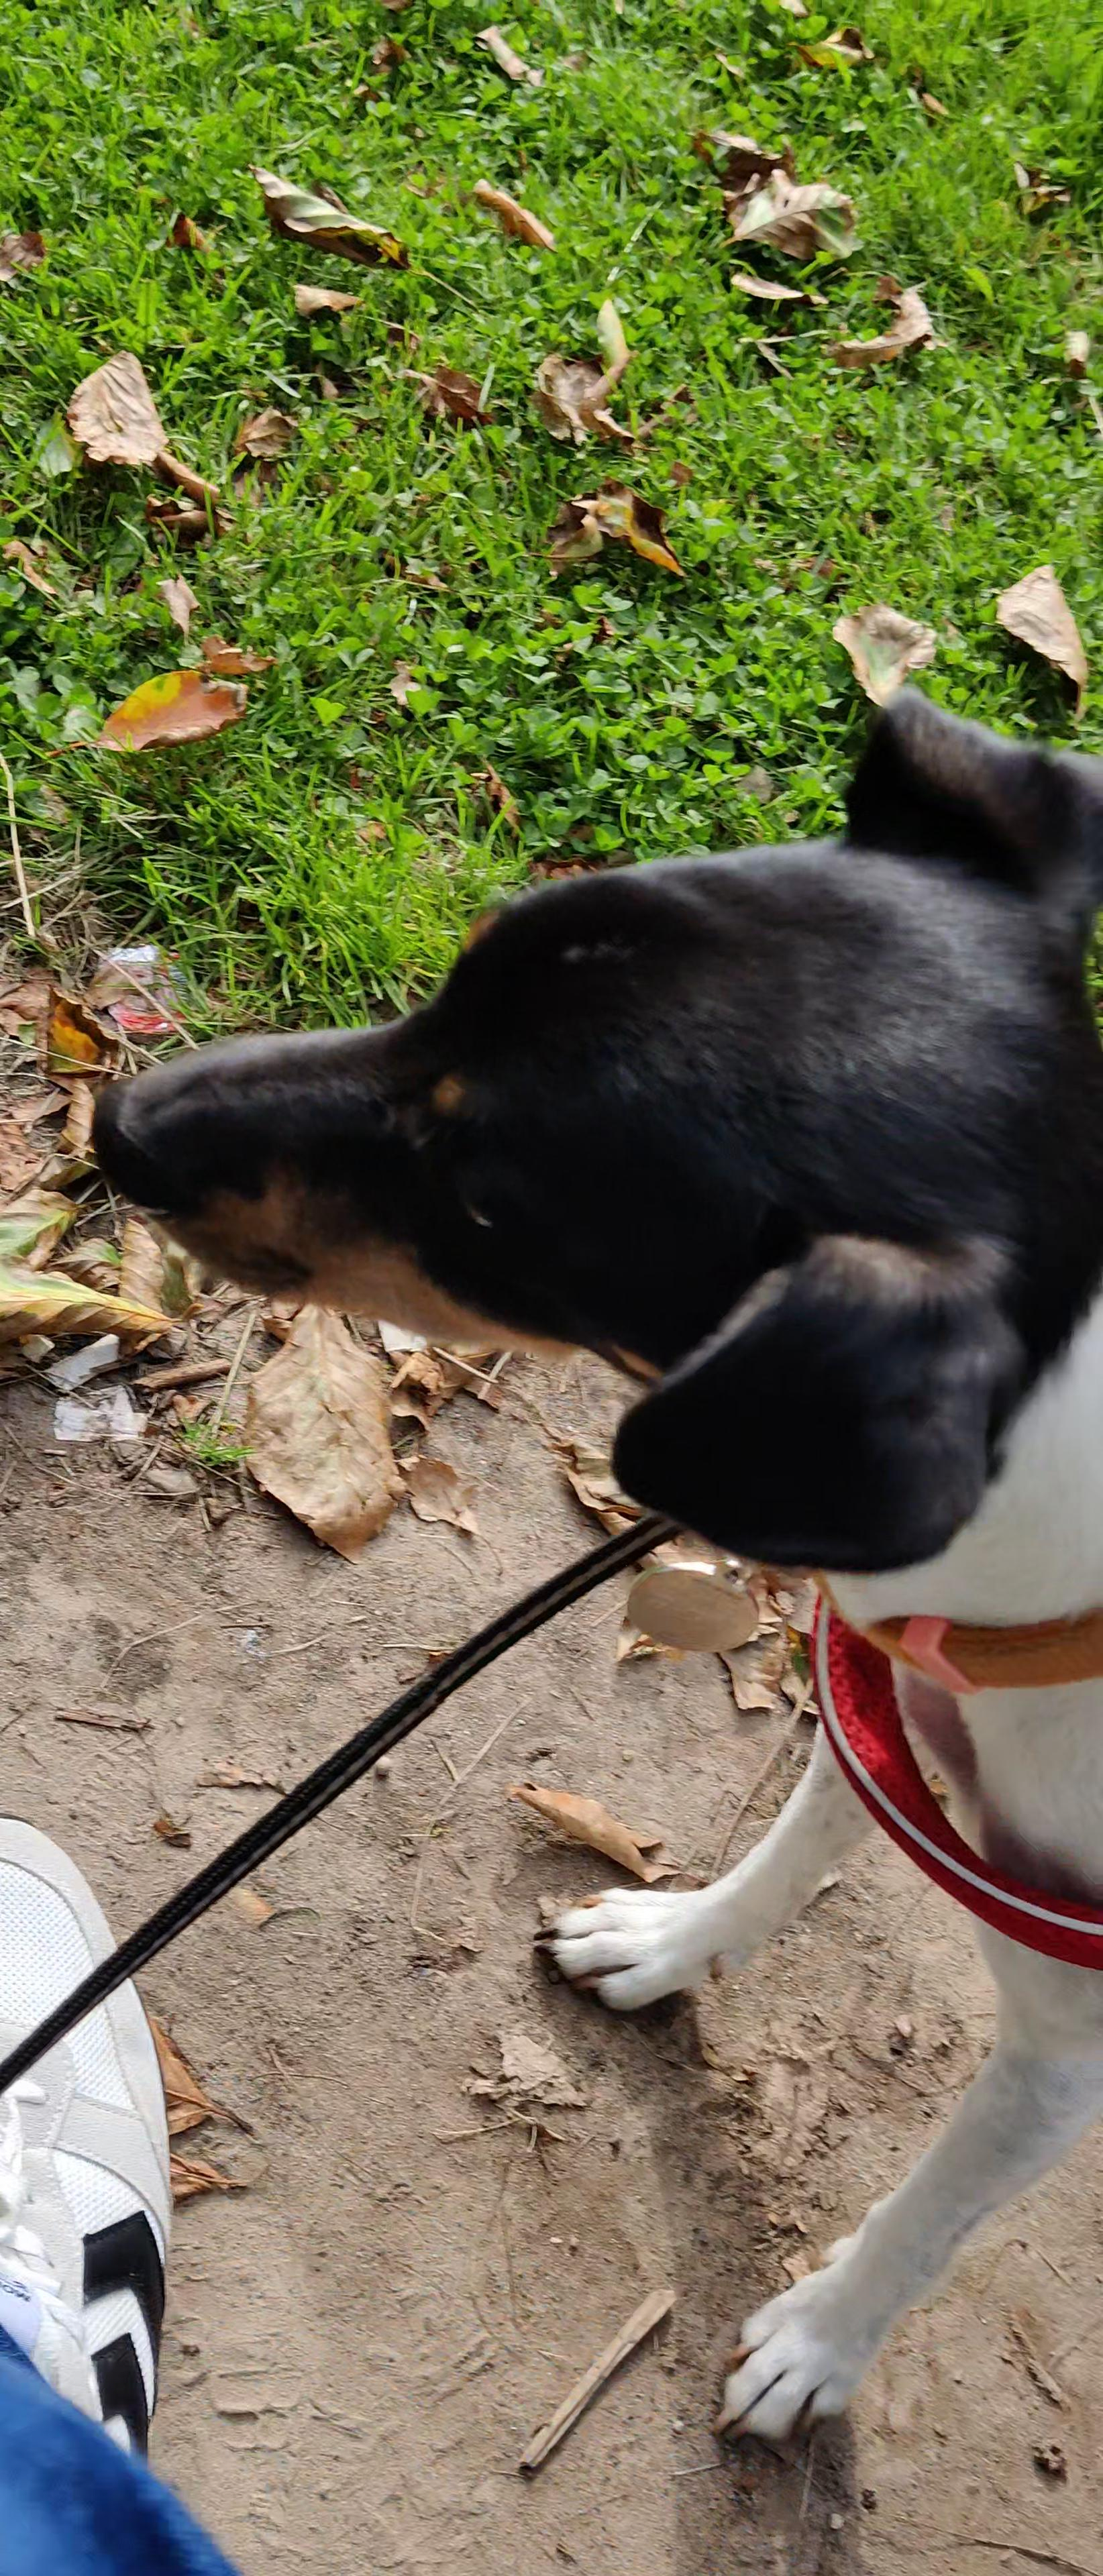Dog: (71, 660, 1103, 2472)
